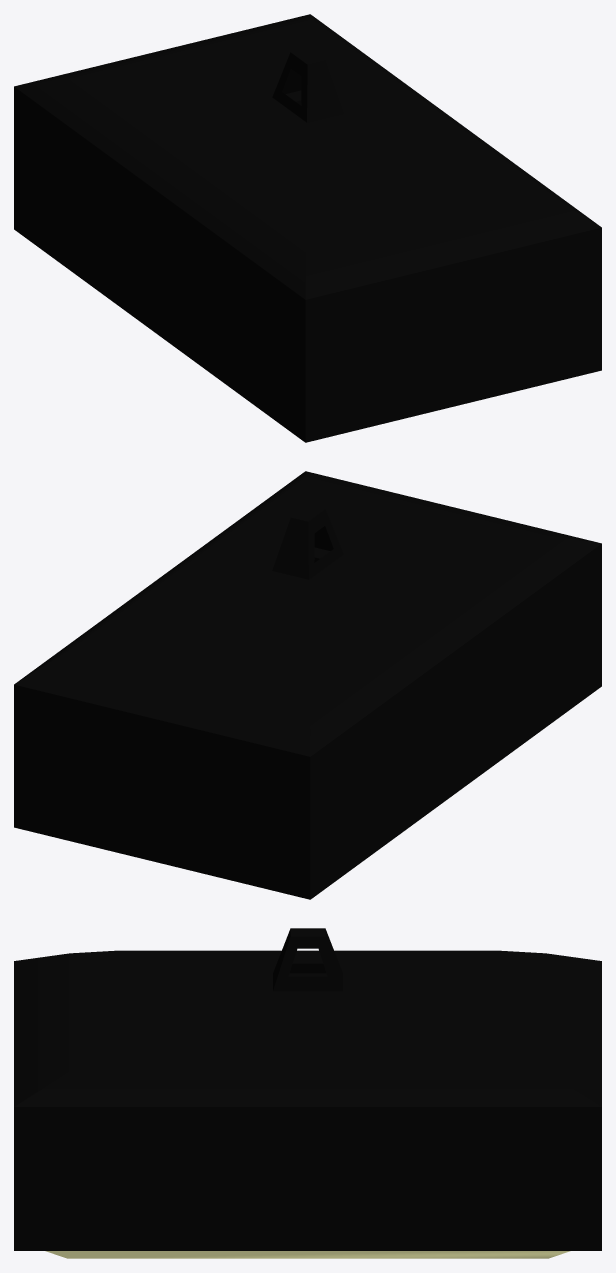
The model's file is Foco_solo.fbx.
The picture shows the model from 3 angles, top to bottom: view 1: azimuth 30°, elevation 25°; view 2: azimuth 150°, elevation 25°; view 3: azimuth 270°, elevation 25°; orthographic projection.
Parts seen in each view (by area): view 1: foco; view 2: foco; view 3: foco.
Part boxes in pixels (x1,y1,x2,y2): foco: [14, 14, 601, 442]; foco: [14, 471, 601, 899]; foco: [14, 928, 601, 1258].
Bounding box in the file's own units: 5.89 × 5.17 × 10.04.
